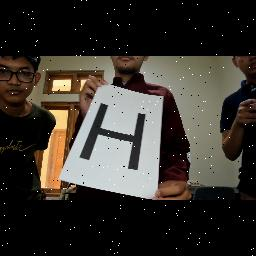h: (75, 99, 147, 173)
